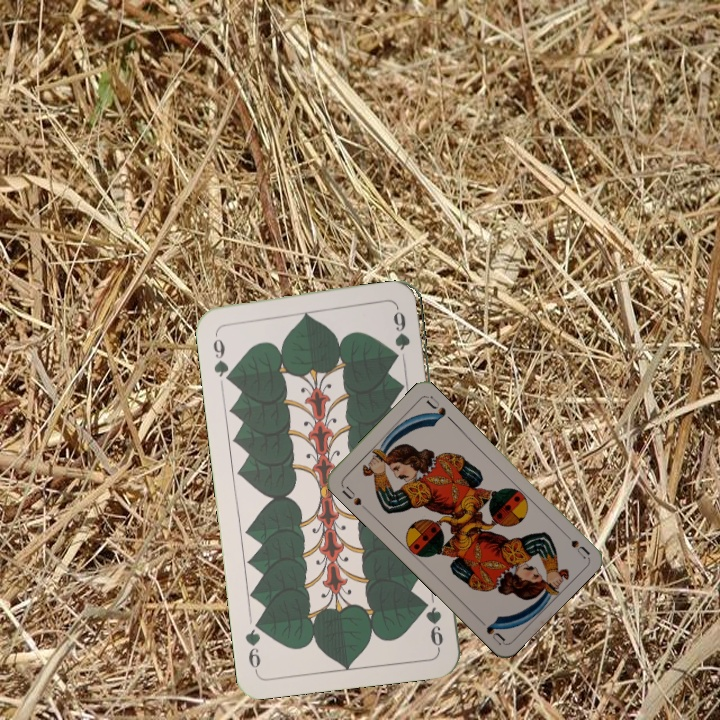G9: (209, 326, 234, 384), (422, 603, 446, 652)
SU: (557, 526, 591, 561), (338, 481, 369, 513)
